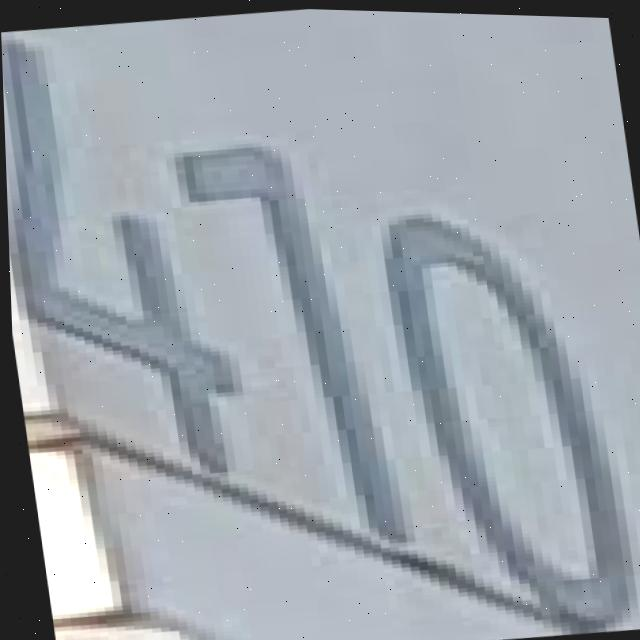character: (0, 11, 264, 501), (362, 190, 640, 640), (160, 122, 430, 569)
